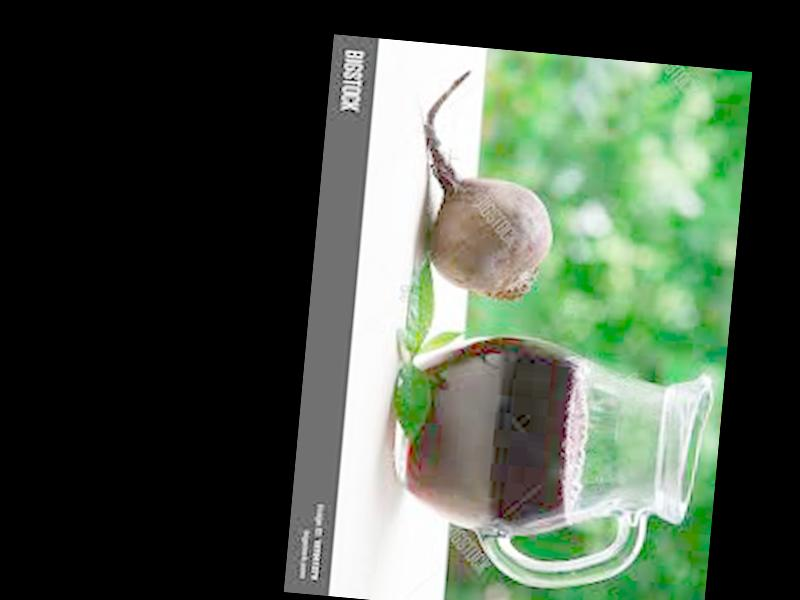Beet: (408, 69, 564, 302)
